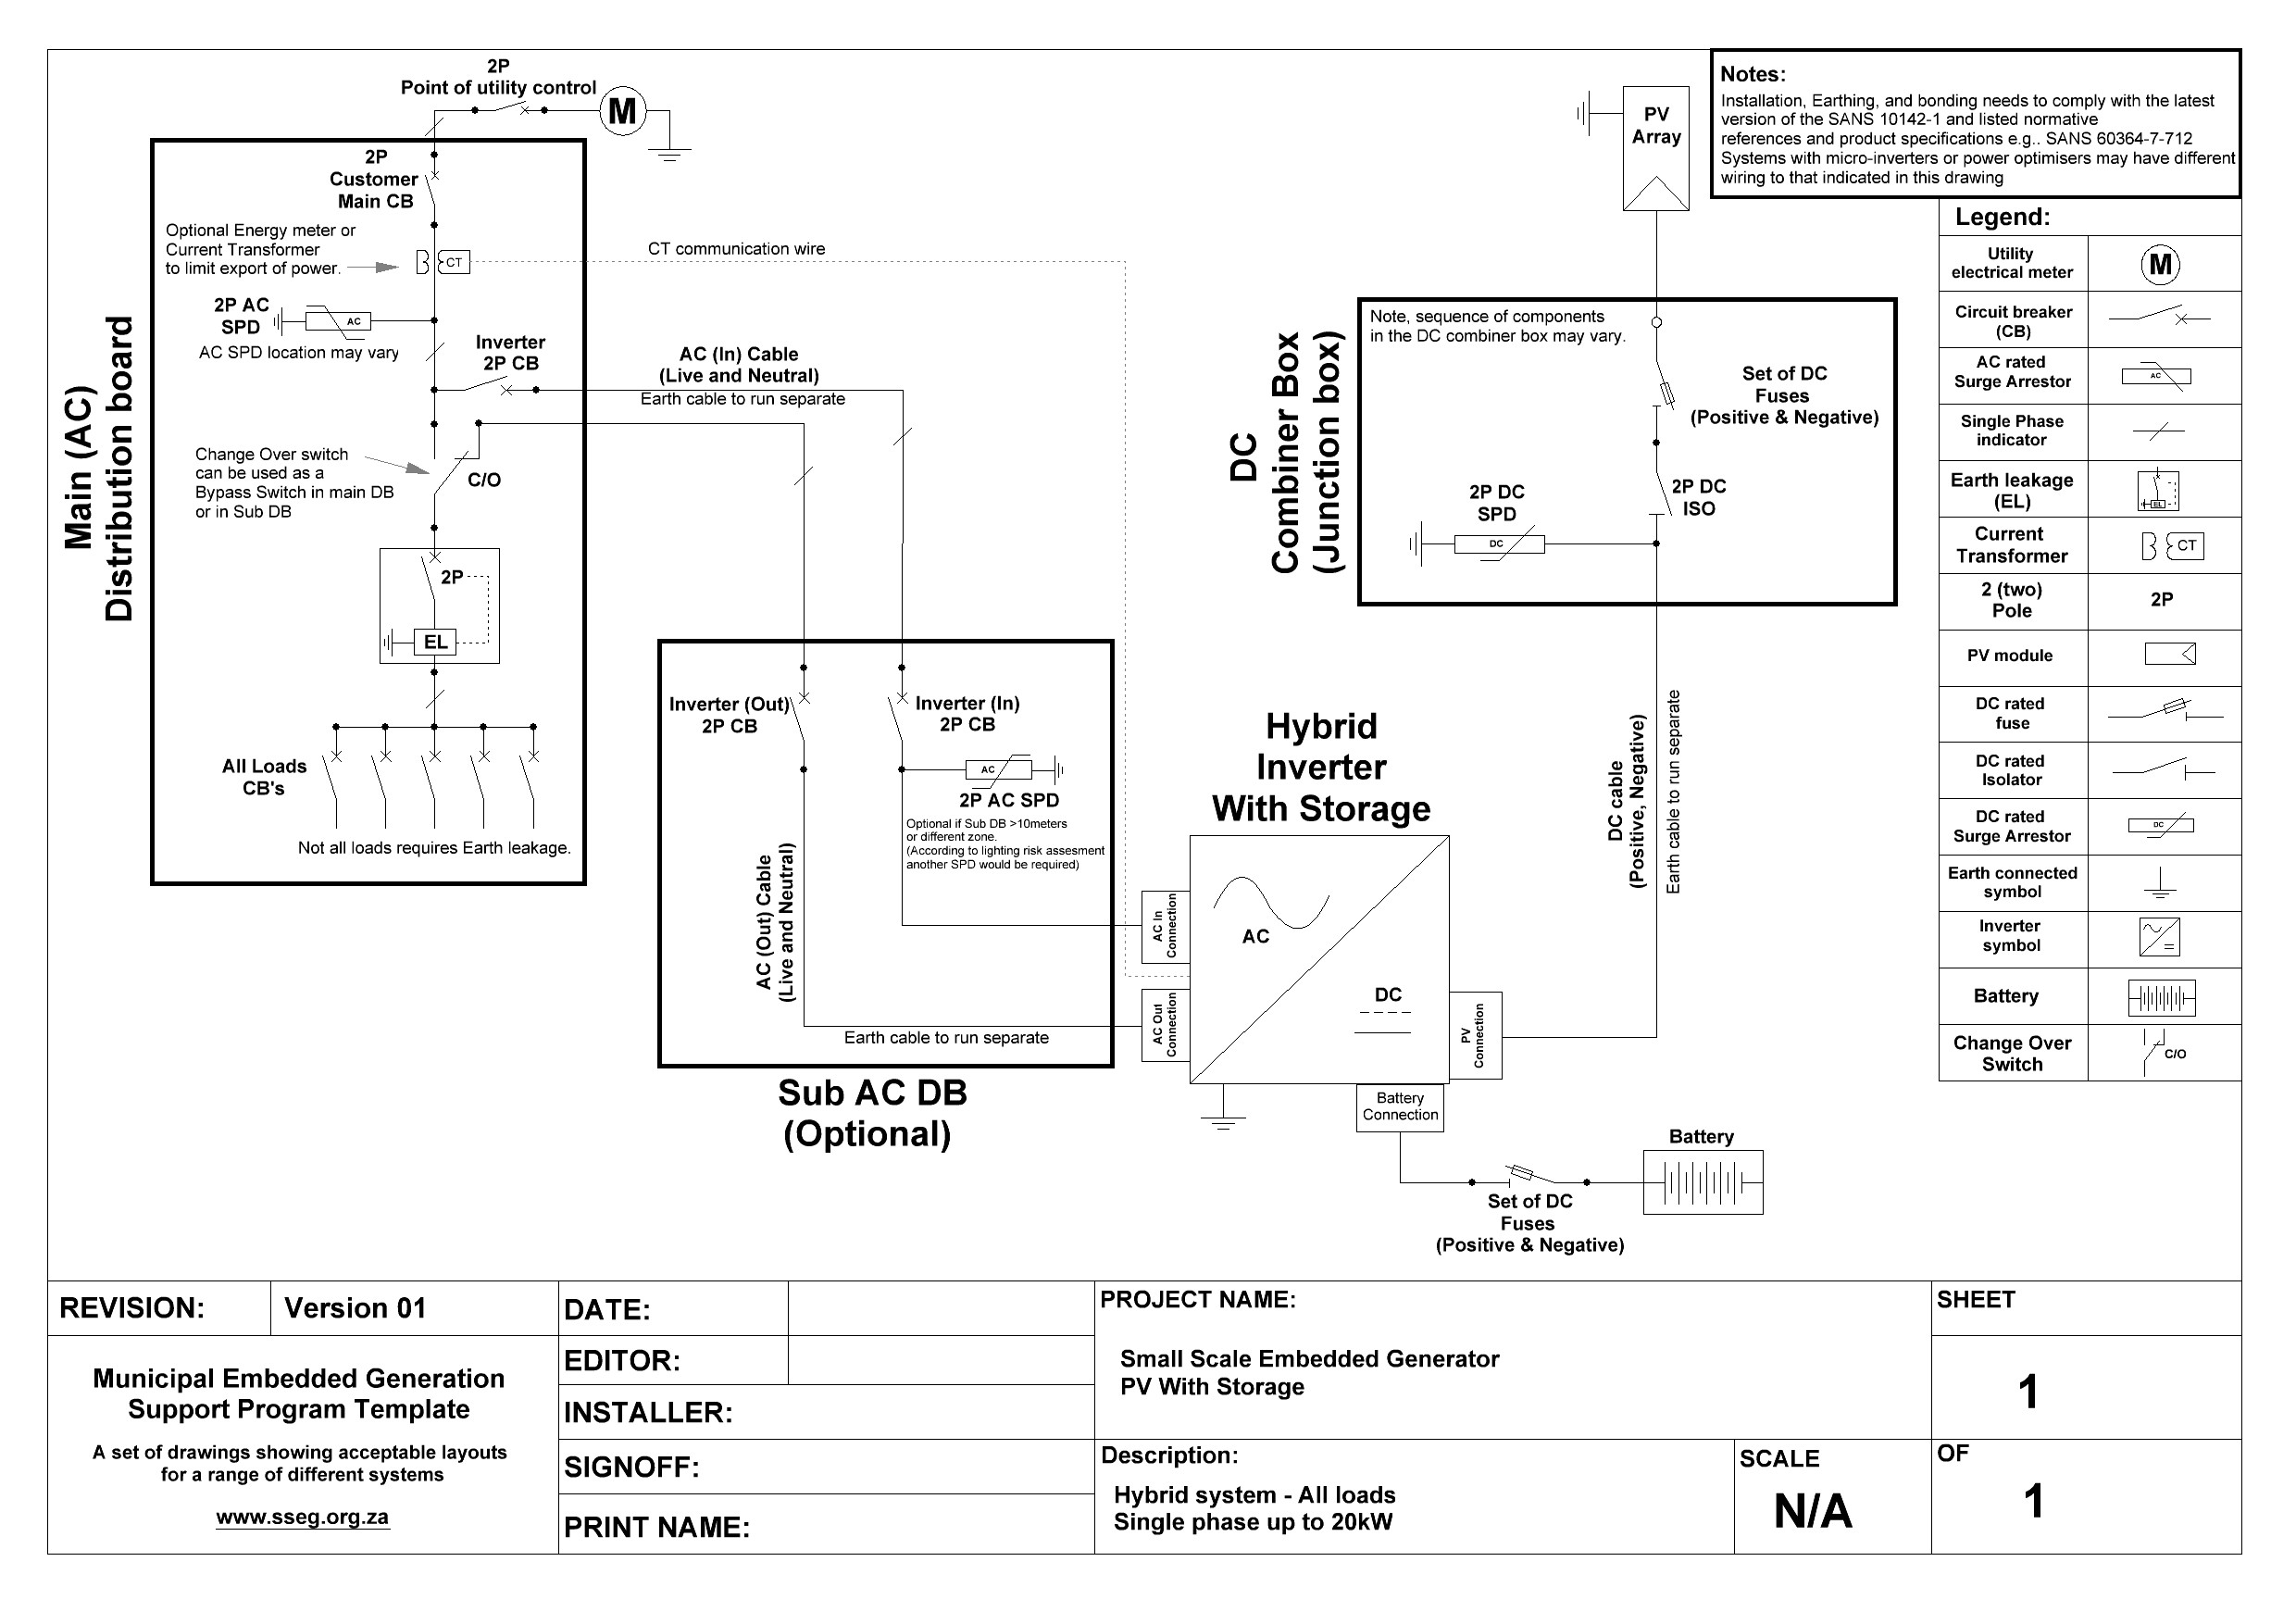fuse: (2097, 689, 2236, 736), (1470, 1156, 1588, 1197), (1634, 348, 1686, 436)
ground: (2092, 858, 2233, 907), (1549, 70, 1613, 153), (1388, 497, 1440, 575), (1173, 1104, 1267, 1142), (643, 130, 711, 179), (249, 294, 292, 348), (1047, 726, 1075, 786), (378, 622, 402, 657)
switch: (2089, 743, 2240, 794), (2090, 1026, 2233, 1079), (2092, 294, 2236, 343), (411, 436, 478, 506), (395, 545, 469, 606), (300, 735, 355, 816), (399, 158, 469, 216), (353, 742, 401, 812), (509, 738, 559, 803), (1637, 468, 1686, 527), (415, 738, 448, 810), (466, 742, 495, 807)
transformer: (2090, 518, 2238, 569), (401, 236, 481, 294)
